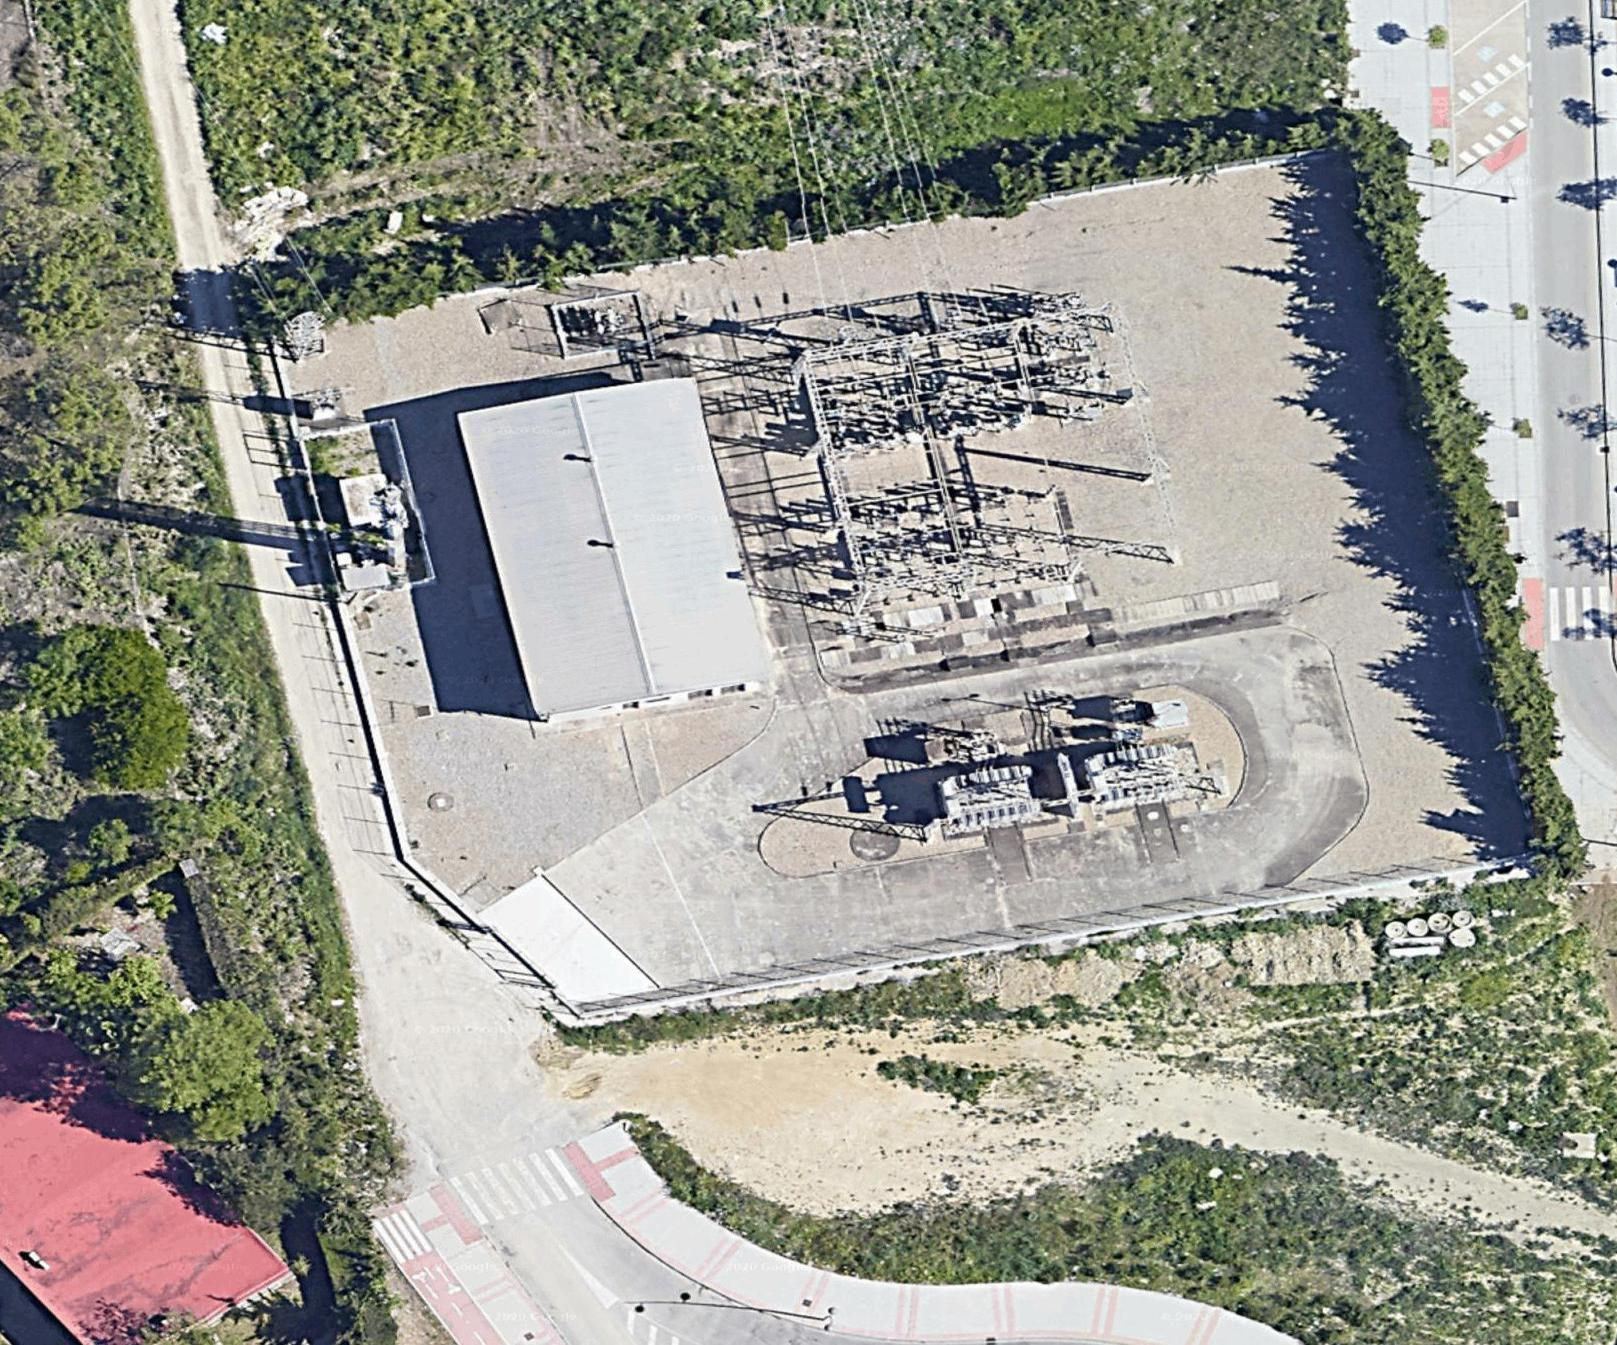substation: (606, 275, 1232, 863)
